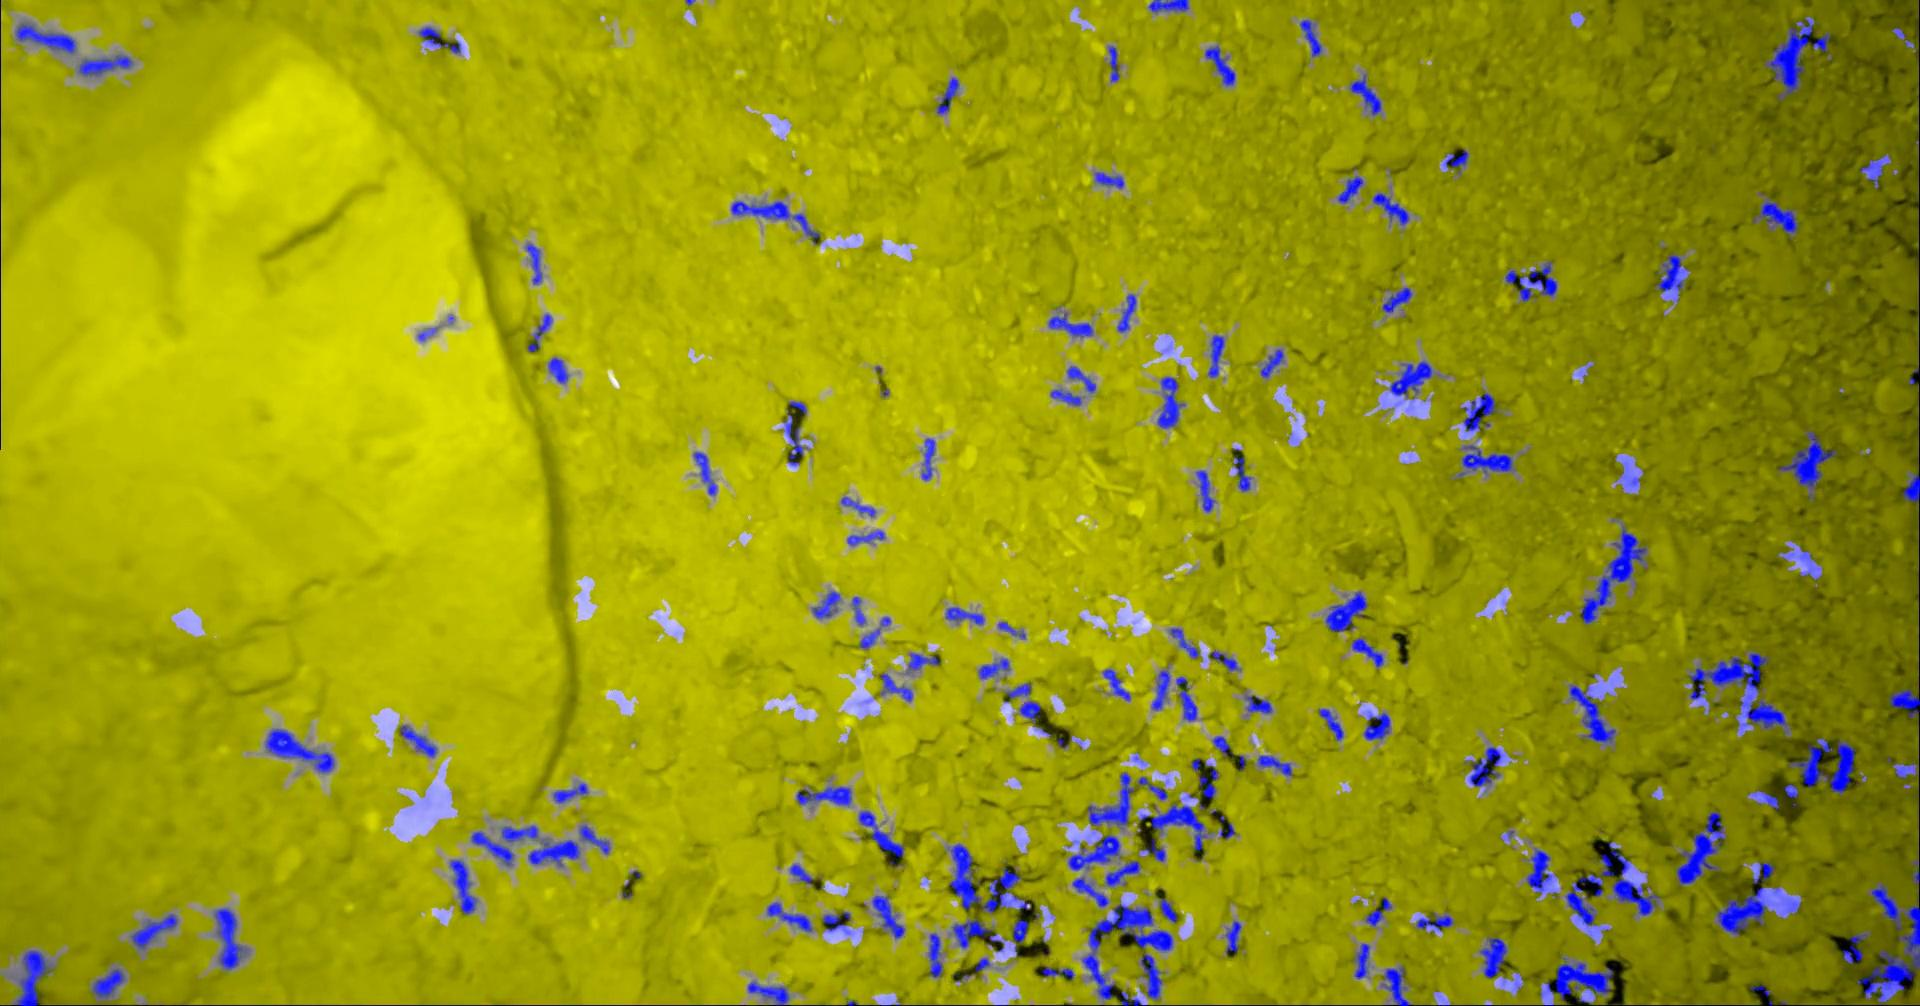ant: (730, 201, 819, 243), (1139, 804, 1204, 850), (1570, 685, 1615, 742), (1087, 774, 1134, 827), (858, 810, 903, 856), (1505, 262, 1556, 301), (1740, 694, 1788, 734), (14, 950, 50, 1005), (215, 908, 246, 969), (15, 23, 75, 53), (1068, 835, 1119, 870), (1902, 401, 1919, 511), (1324, 591, 1366, 631), (1752, 198, 1798, 235), (1389, 361, 1432, 396), (131, 915, 177, 948), (450, 859, 476, 915), (471, 831, 513, 865), (1462, 445, 1512, 473), (1157, 376, 1183, 428), (1460, 392, 1496, 431), (952, 920, 1001, 948), (1349, 74, 1382, 114), (766, 902, 811, 931), (872, 895, 904, 937), (527, 840, 579, 865), (1469, 746, 1501, 786), (1204, 44, 1234, 85), (1893, 751, 1919, 799), (1371, 192, 1410, 224), (1656, 254, 1688, 291), (399, 725, 436, 756), (418, 25, 460, 52), (1382, 967, 1411, 1005), (77, 55, 131, 75), (1859, 152, 1890, 188), (1479, 937, 1506, 978), (1072, 876, 1109, 906), (1048, 312, 1092, 337), (1526, 848, 1550, 892), (796, 786, 851, 805), (747, 981, 789, 1005), (783, 414, 803, 465), (91, 968, 124, 997), (693, 452, 716, 494), (1140, 953, 1161, 998), (1351, 636, 1383, 666), (527, 312, 551, 351), (1105, 860, 1139, 887), (1176, 676, 1196, 720), (1888, 688, 1919, 718), (880, 673, 912, 701), (1102, 669, 1130, 700), (579, 826, 610, 854), (1318, 708, 1343, 741), (1170, 627, 1197, 657), (1841, 931, 1867, 963), (1195, 470, 1214, 512), (1299, 19, 1321, 56), (811, 591, 839, 619), (1065, 366, 1095, 392), (936, 77, 957, 113), (1382, 287, 1411, 312), (1152, 669, 1170, 710), (1208, 334, 1224, 377), (1363, 713, 1389, 739), (1365, 897, 1390, 925), (1197, 761, 1217, 798), (841, 495, 875, 516), (1257, 754, 1291, 775), (1337, 177, 1363, 203), (1117, 293, 1135, 332), (1138, 776, 1167, 799), (1011, 920, 1029, 956), (552, 782, 587, 801), (524, 244, 541, 283), (978, 658, 1010, 678), (1260, 349, 1283, 377), (1416, 912, 1451, 930), (945, 607, 983, 624), (928, 934, 942, 977), (1233, 456, 1250, 492), (921, 438, 935, 479), (847, 530, 884, 545), (1444, 149, 1468, 171), (502, 826, 537, 841), (1354, 942, 1369, 978), (1211, 650, 1239, 669), (822, 911, 850, 930), (907, 653, 938, 669), (549, 357, 568, 384), (1244, 695, 1272, 713), (1142, 840, 1164, 861), (1050, 389, 1079, 405), (1018, 701, 1040, 723), (1148, 0, 1189, 11), (1095, 171, 1123, 188), (789, 864, 813, 883), (1004, 683, 1030, 701), (1225, 920, 1239, 951), (998, 621, 1025, 638), (1757, 789, 1779, 809), (1752, 862, 1774, 883), (1119, 989, 1147, 1005), (1159, 897, 1176, 922), (858, 627, 879, 647), (1211, 735, 1230, 756), (1109, 44, 1119, 81), (1891, 27, 1910, 46), (1041, 967, 1073, 978), (852, 596, 865, 624), (1783, 782, 1798, 805), (1812, 30, 1829, 51), (1219, 822, 1236, 838), (1749, 984, 1770, 996), (789, 401, 806, 414), (974, 956, 989, 970), (1917, 520, 1919, 573)
